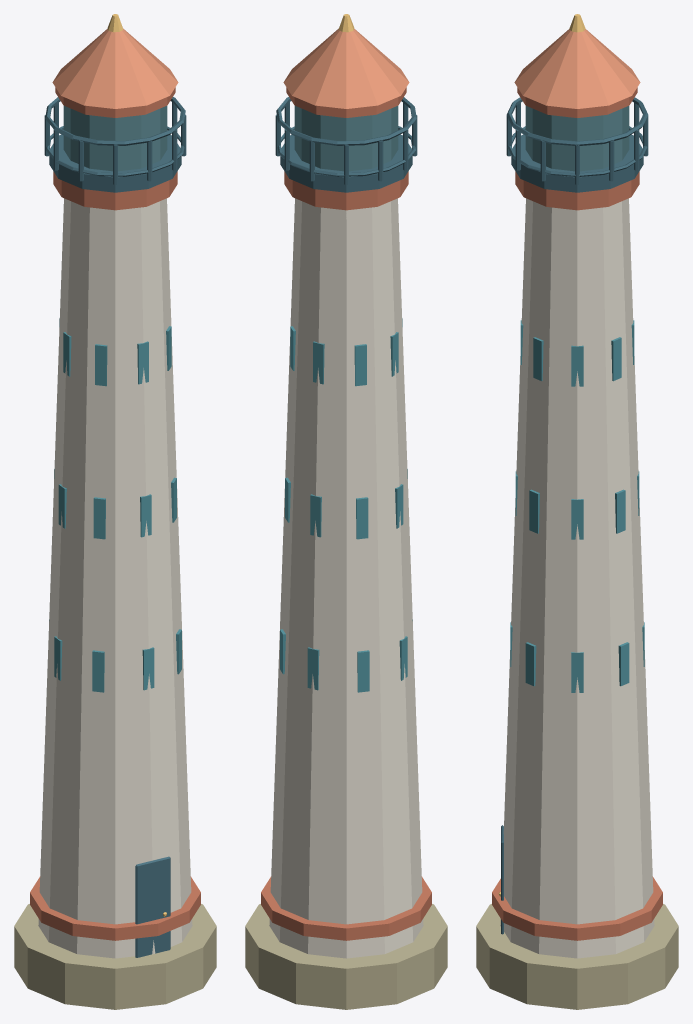
The model's file is lighthouse_coastal_a.glb.
3 views of the same model, side by side, from view 1: azimuth 30°, elevation 25°; view 2: azimuth 150°, elevation 25°; view 3: azimuth 270°, elevation 25° (orthographic).
Parts seen in each view (by area): view 1: lighthouse_coastal_a; view 2: lighthouse_coastal_a; view 3: lighthouse_coastal_a.
Part boxes in pixels (bbox=[...]): lighthouse_coastal_a: bbox=[14, 14, 216, 1009]; lighthouse_coastal_a: bbox=[245, 14, 447, 1009]; lighthouse_coastal_a: bbox=[476, 14, 678, 1009].
Bounding box in the file's own units: 2.7 × 14 × 2.7.
